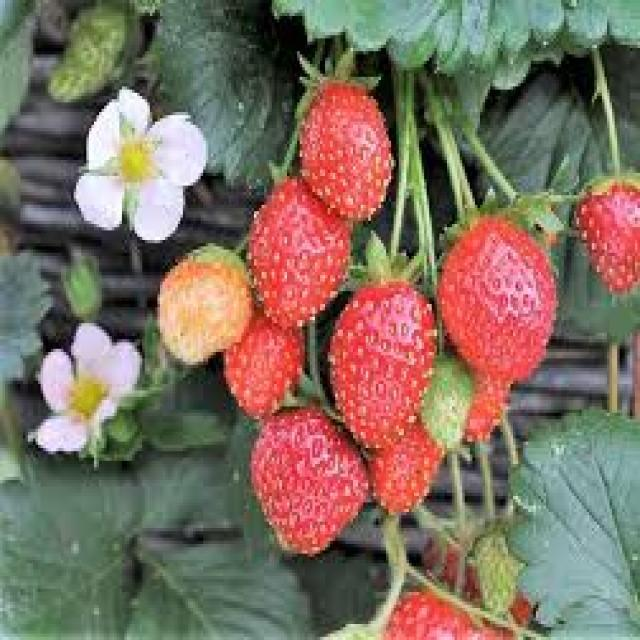Fruta sana: (332, 266, 440, 449), (234, 414, 367, 562), (447, 206, 553, 390), (244, 185, 356, 327), (127, 258, 261, 370), (292, 73, 395, 214), (568, 172, 640, 284), (217, 320, 305, 409), (368, 420, 436, 516)
